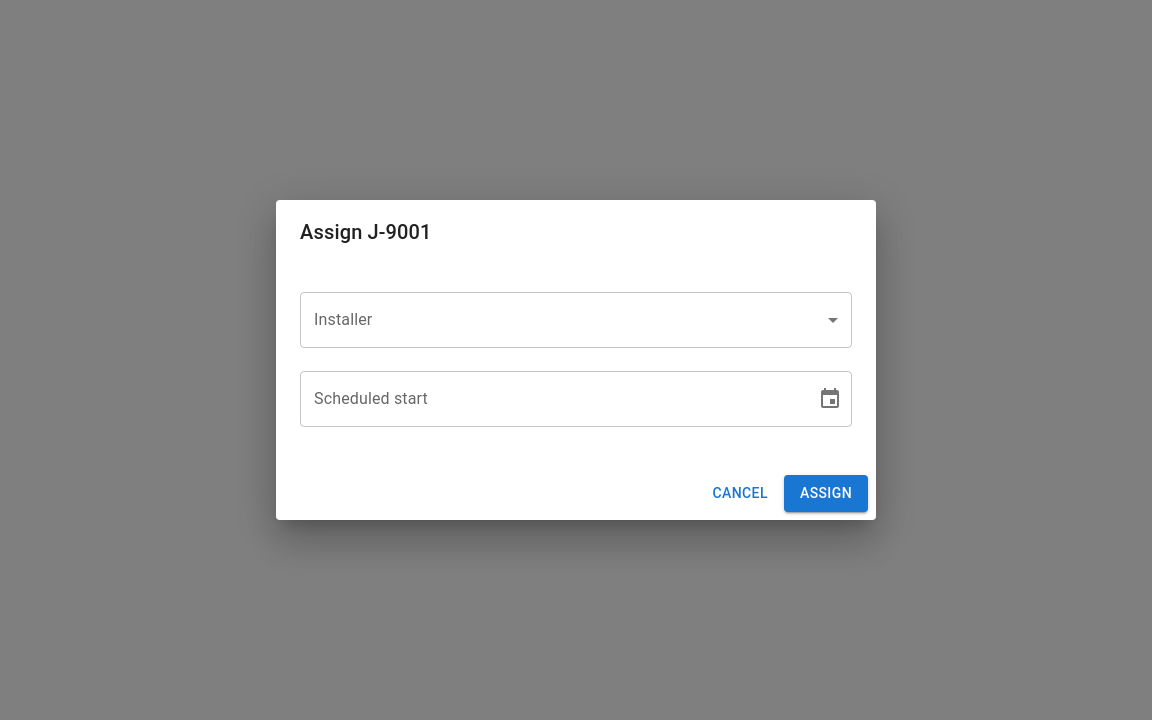
Test: AssignDialog validation › rejects submission with no installer selected and no time set
Click the button "Assign" at point(826, 494), box [784,475,868,512]
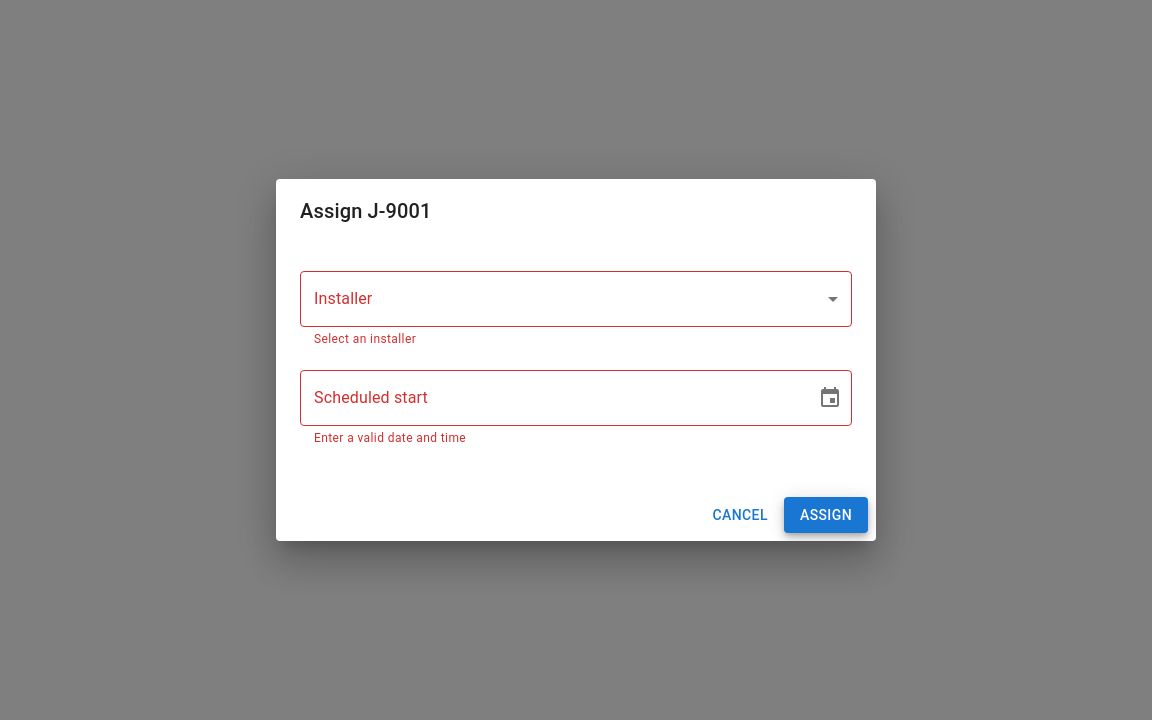
Now the text "Select an installer" is shown, box [314,332,416,346]
Now the text "Enter a valid date and time" is shown, box [314,431,466,445]
